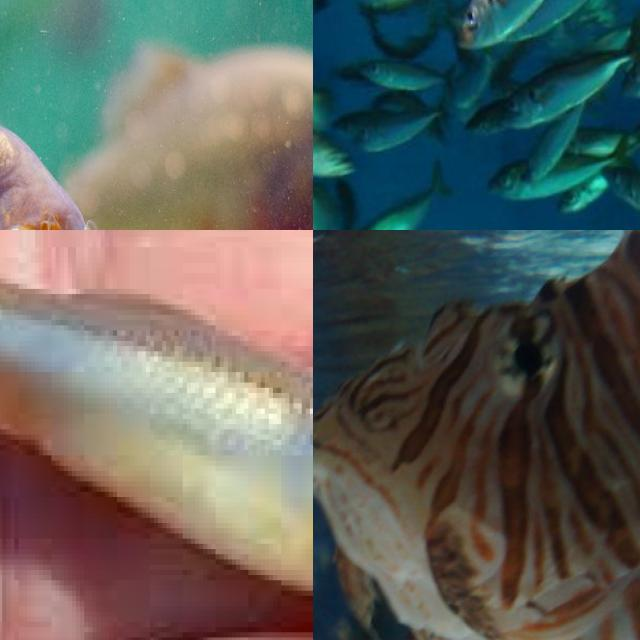fish: (313, 230, 640, 640), (0, 0, 313, 230), (0, 230, 313, 382)
